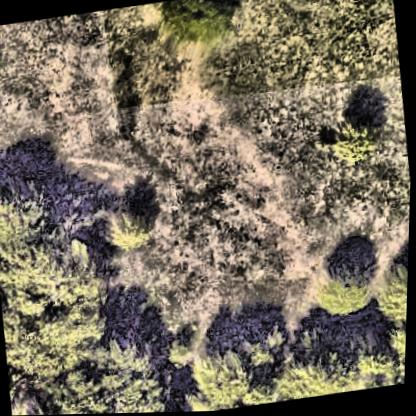tree-top: (0, 170, 116, 384), (51, 327, 172, 415), (274, 325, 363, 401), (194, 334, 266, 412), (316, 106, 388, 182), (312, 247, 380, 323), (154, 0, 250, 50), (98, 188, 163, 255), (234, 309, 290, 370), (162, 319, 211, 376), (375, 260, 410, 329), (10, 379, 67, 416), (357, 339, 399, 384), (390, 322, 408, 365)
